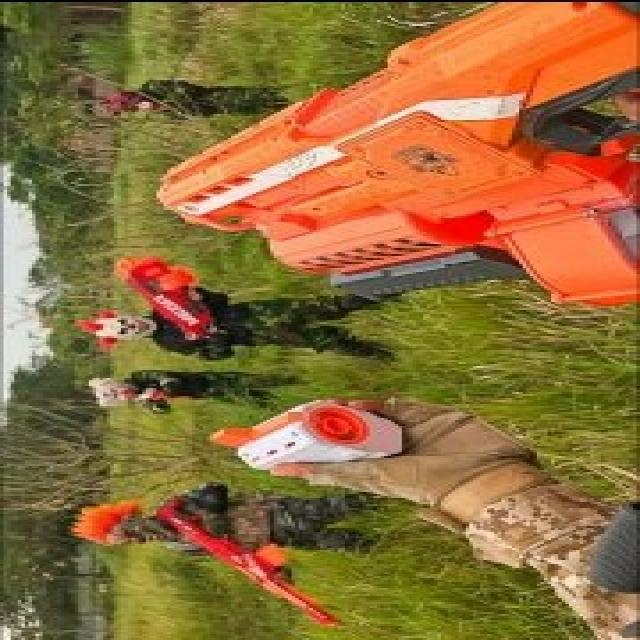Nerf gun: (144, 2, 631, 318), (144, 489, 340, 627), (112, 248, 222, 348), (126, 383, 166, 405)
